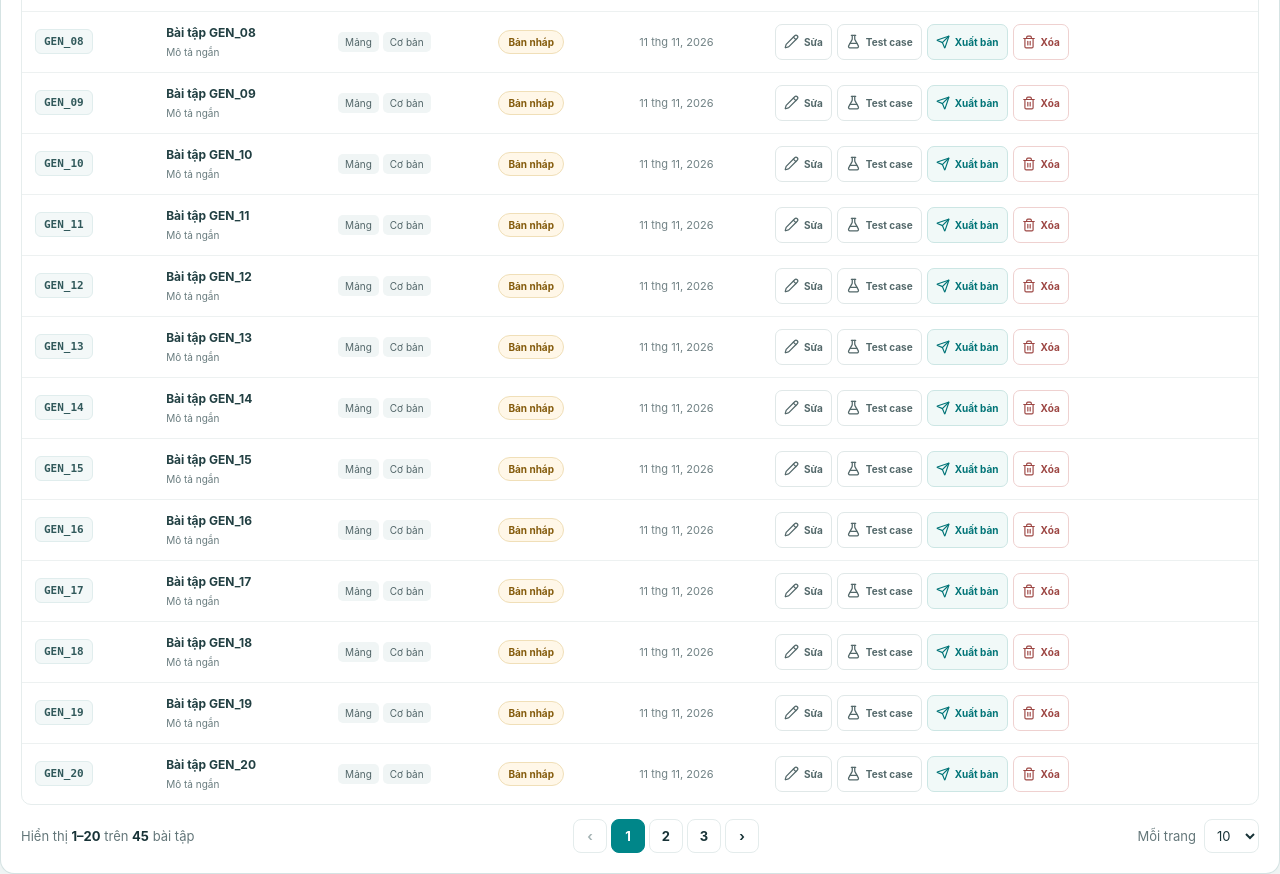
AdminProblemsPage › keeps the top and bottom pagers synchronized for page and page-size changes
(page scrolled)
Select "10" in the dropdown labelled "Mỗi trang" at (1232,836), box x1=1204 y1=819 x2=1259 y2=853
Select "10" in the dropdown labelled "Mỗi trang" at (1232,836), box x1=1204 y1=819 x2=1259 y2=853
(page scrolled)
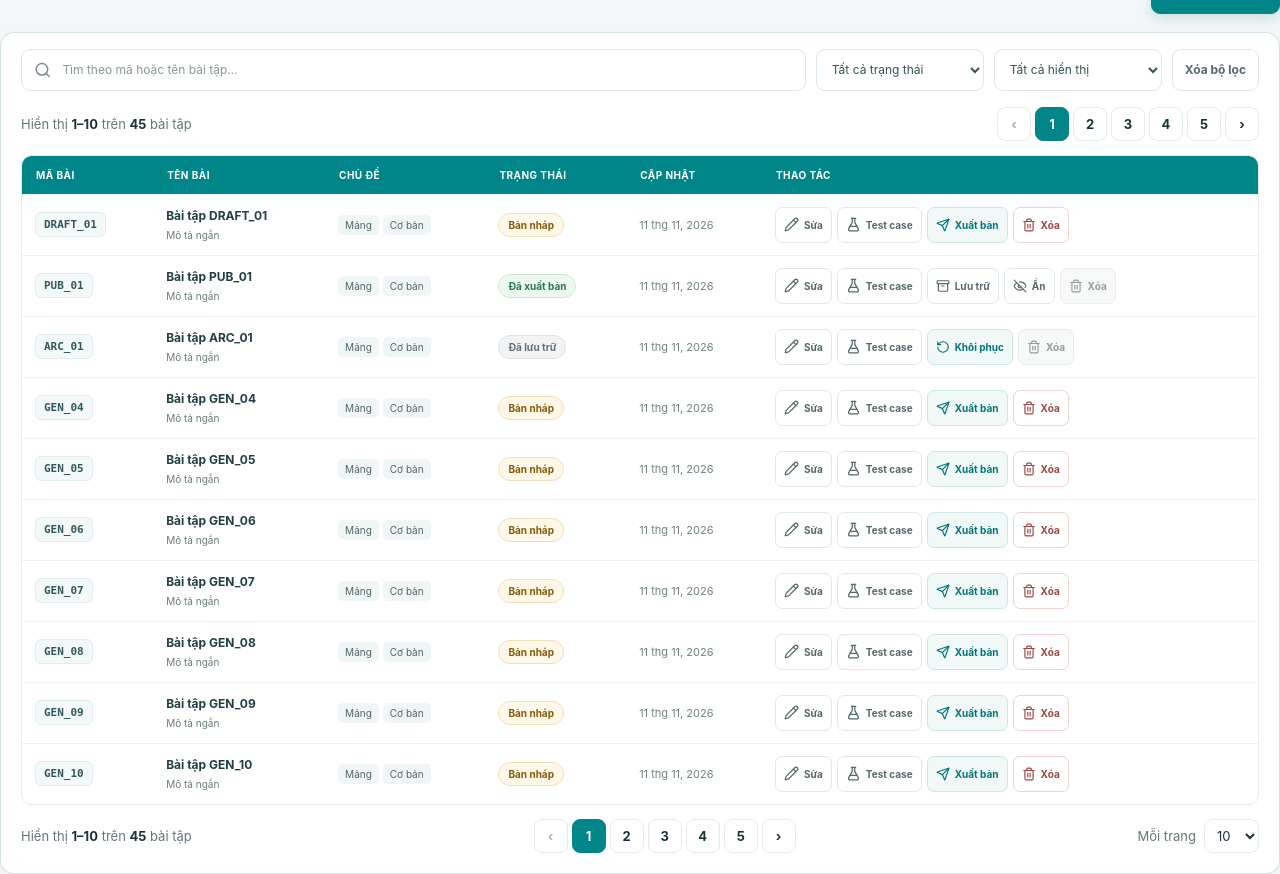
Expected: the 1st button "1" is shown, x1=1035 y1=107 x2=1069 y2=141
Expected: the element showing "Hiển thị 1–10 trên 45 bài tập" in the row of "Mỗi trang" is shown, x1=21 y1=828 x2=192 y2=844
Click the button named "Trang sau".
click(779, 836)  # box x1=762 y1=819 x2=796 y2=853
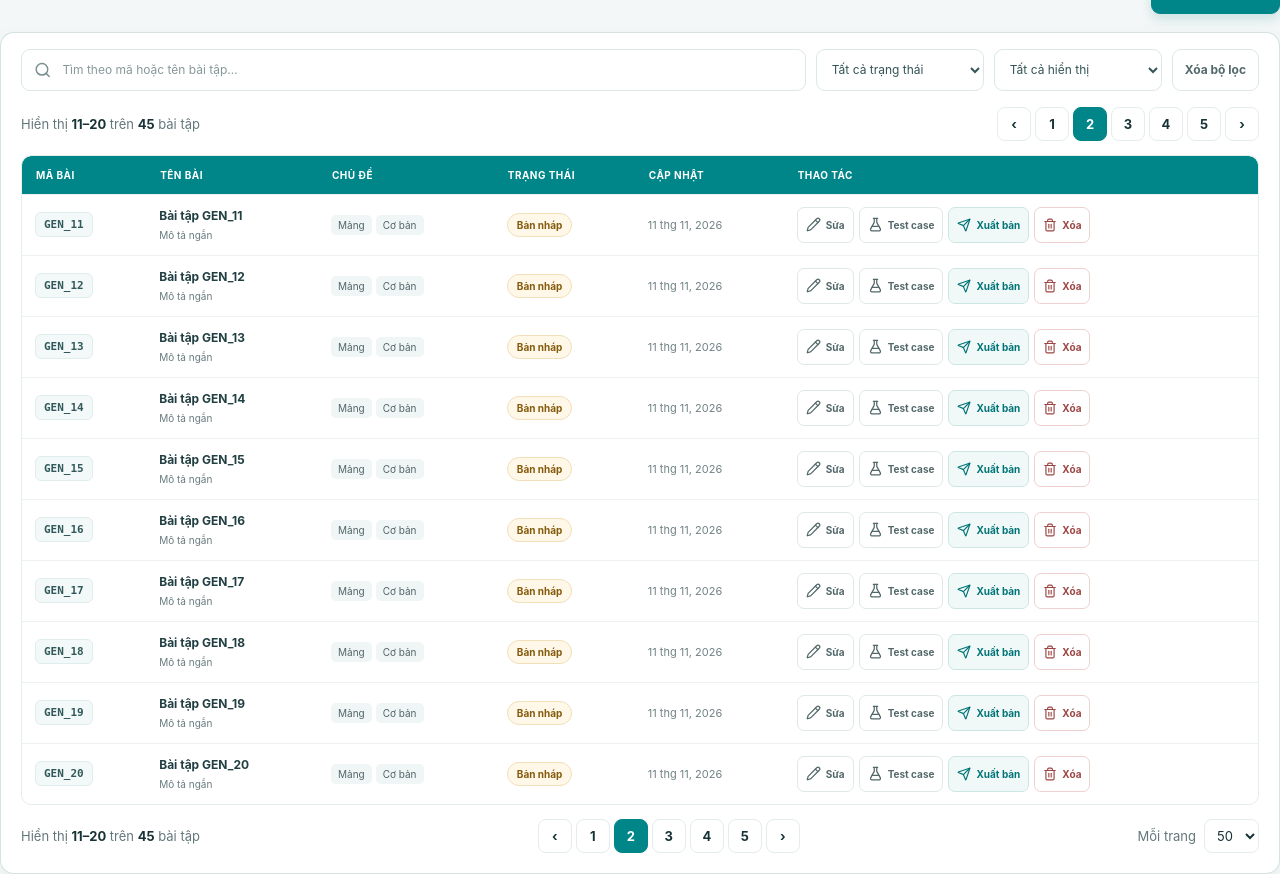
Expected: the 1st button "2" is shown, x1=1073 y1=107 x2=1107 y2=141
Expected: the element showing "Hiển thị 11–20 trên 45 bài tập" in the row of "Mỗi trang" is shown, x1=21 y1=828 x2=200 y2=844
Select "50" in the dropdown labelled "Mỗi trang" at (1232,836), box x1=1204 y1=819 x2=1259 y2=853
Select "50" in the dropdown labelled "Mỗi trang" at (1232,836), box x1=1204 y1=819 x2=1259 y2=853
(page scrolled)
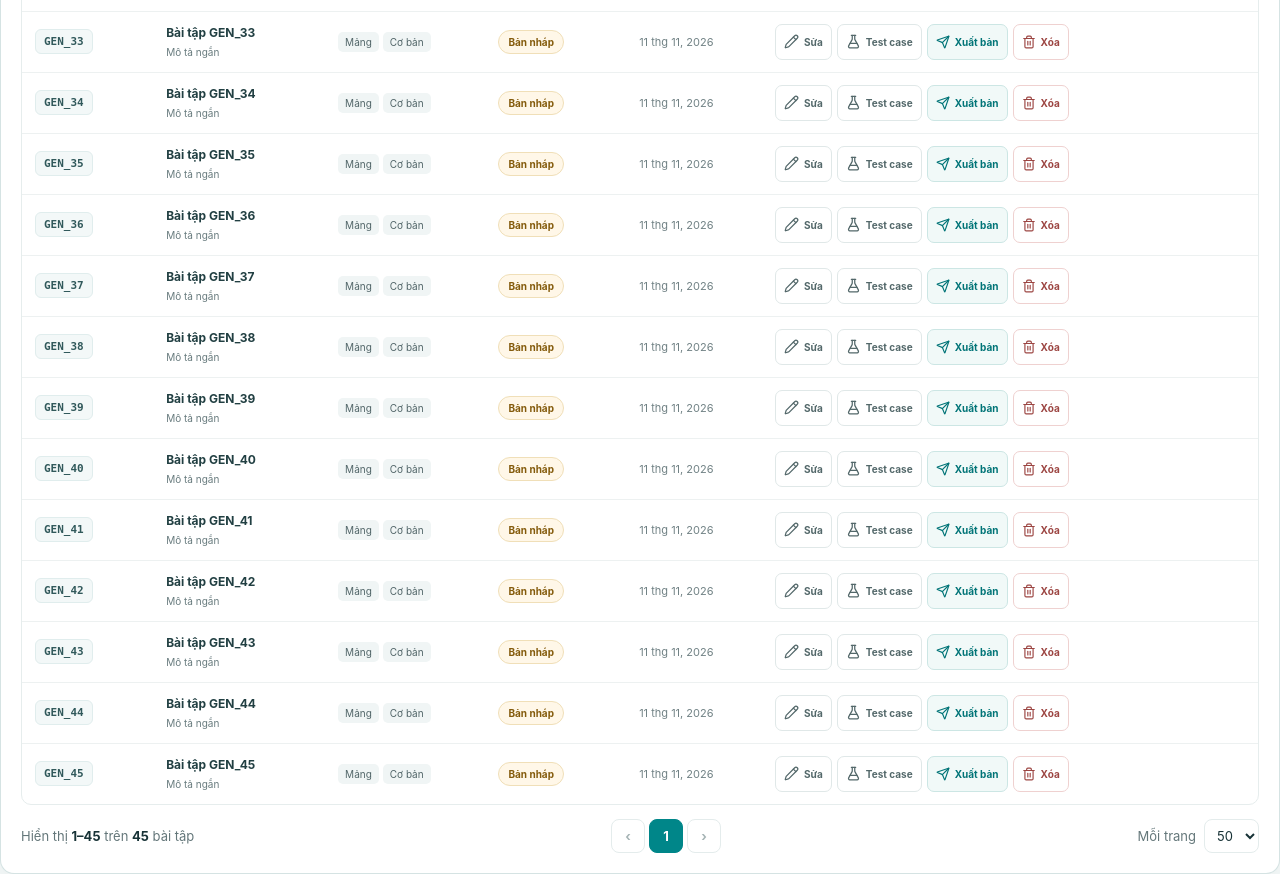
Expected: the button "1" is shown, x1=649 y1=819 x2=683 y2=853
Expected: the element showing "Hiển thị 1–45 trên 45 bài tập" is shown, x1=21 y1=828 x2=194 y2=844
